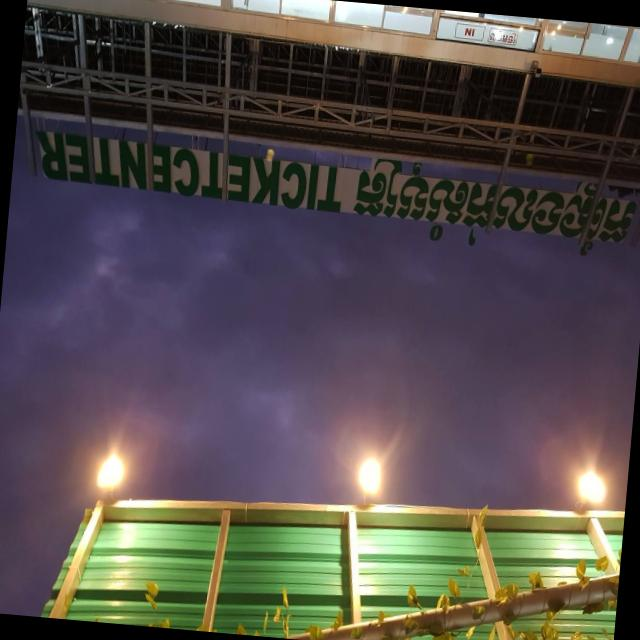Yolov11kh: (345, 152, 639, 258)
